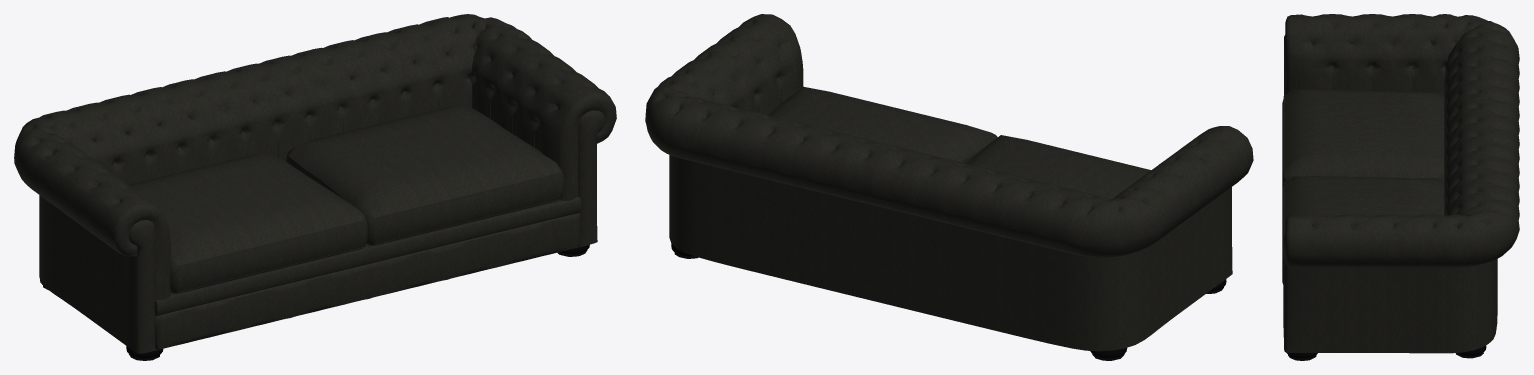
The model's file is couch.dae.
3 renders of one model, left to right at view 1: azimuth 30°, elevation 25°; view 2: azimuth 150°, elevation 25°; view 3: azimuth 270°, elevation 25°, orthographic. The views are drawn at different scales.
Visible parts, largest first — view 1: group_11, group_10, group_16, group_6, group_19, group_15, group_18, group_3, group_8, group_4, group_7; view 2: group_6, group_10, group_11, group_7, group_16, group_19, group_15, group_18; view 3: group_10, group_11, group_7, group_19, group_18, group_16, group_15, group_0, group_1.
Part boxes in pixels (box(x1,y1,x2,y2)): group_11: box(249, 14, 616, 200); group_10: box(14, 65, 278, 299); group_16: box(285, 123, 468, 245); group_6: box(39, 195, 364, 353); group_19: box(183, 152, 367, 271); group_15: box(379, 105, 564, 222); group_18: box(128, 171, 272, 293); group_3: box(155, 264, 369, 349); group_8: box(154, 196, 581, 315); group_4: box(368, 213, 579, 298); group_7: box(371, 110, 604, 297); group_6: box(882, 187, 1232, 351); group_10: box(871, 126, 1253, 257); group_11: box(645, 14, 902, 206); group_7: box(669, 155, 882, 303); group_16: box(849, 107, 997, 163); group_19: box(966, 135, 1094, 182); group_15: box(768, 86, 896, 134); group_18: box(1048, 156, 1150, 199); group_10: box(1285, 14, 1519, 165); group_11: box(1285, 117, 1519, 267); group_7: box(1284, 233, 1497, 353); group_19: box(1282, 122, 1444, 188); group_18: box(1282, 89, 1444, 142); group_16: box(1282, 176, 1444, 229); group_15: box(1282, 208, 1435, 286); group_0: box(1455, 345, 1486, 358); group_1: box(1286, 352, 1317, 360).
Size of the model in its own units: 89.73 by 40.41 by 27.14.
